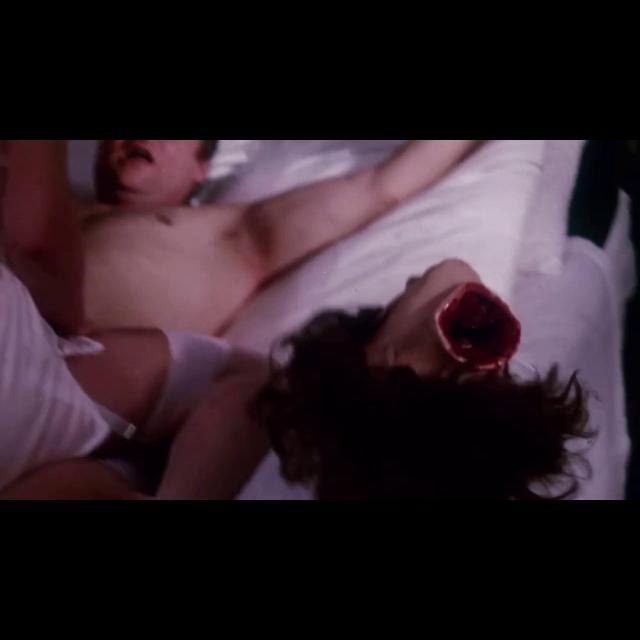blood: (437, 282, 522, 369)
